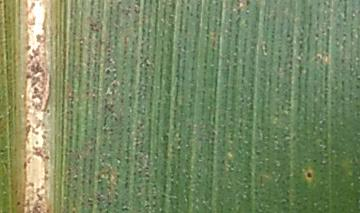tarspot: (304, 169, 316, 182)
